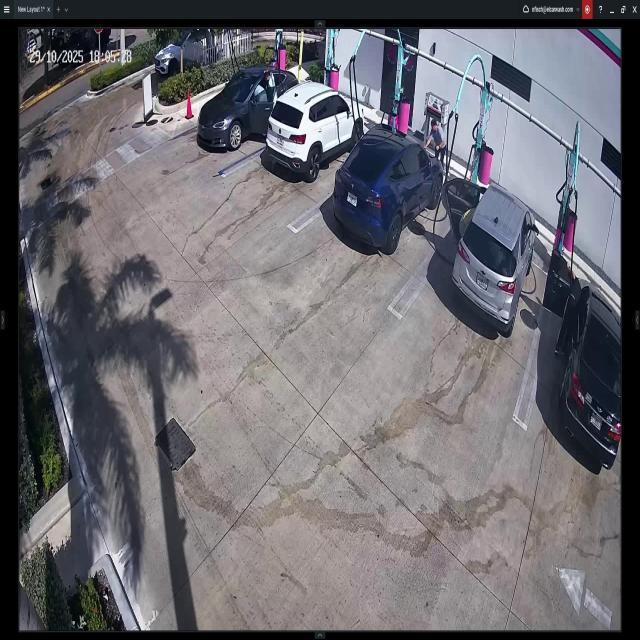Car: (549, 243, 621, 466), (446, 176, 536, 341), (332, 123, 442, 254), (269, 79, 364, 183), (198, 64, 300, 156), (153, 27, 215, 75)
